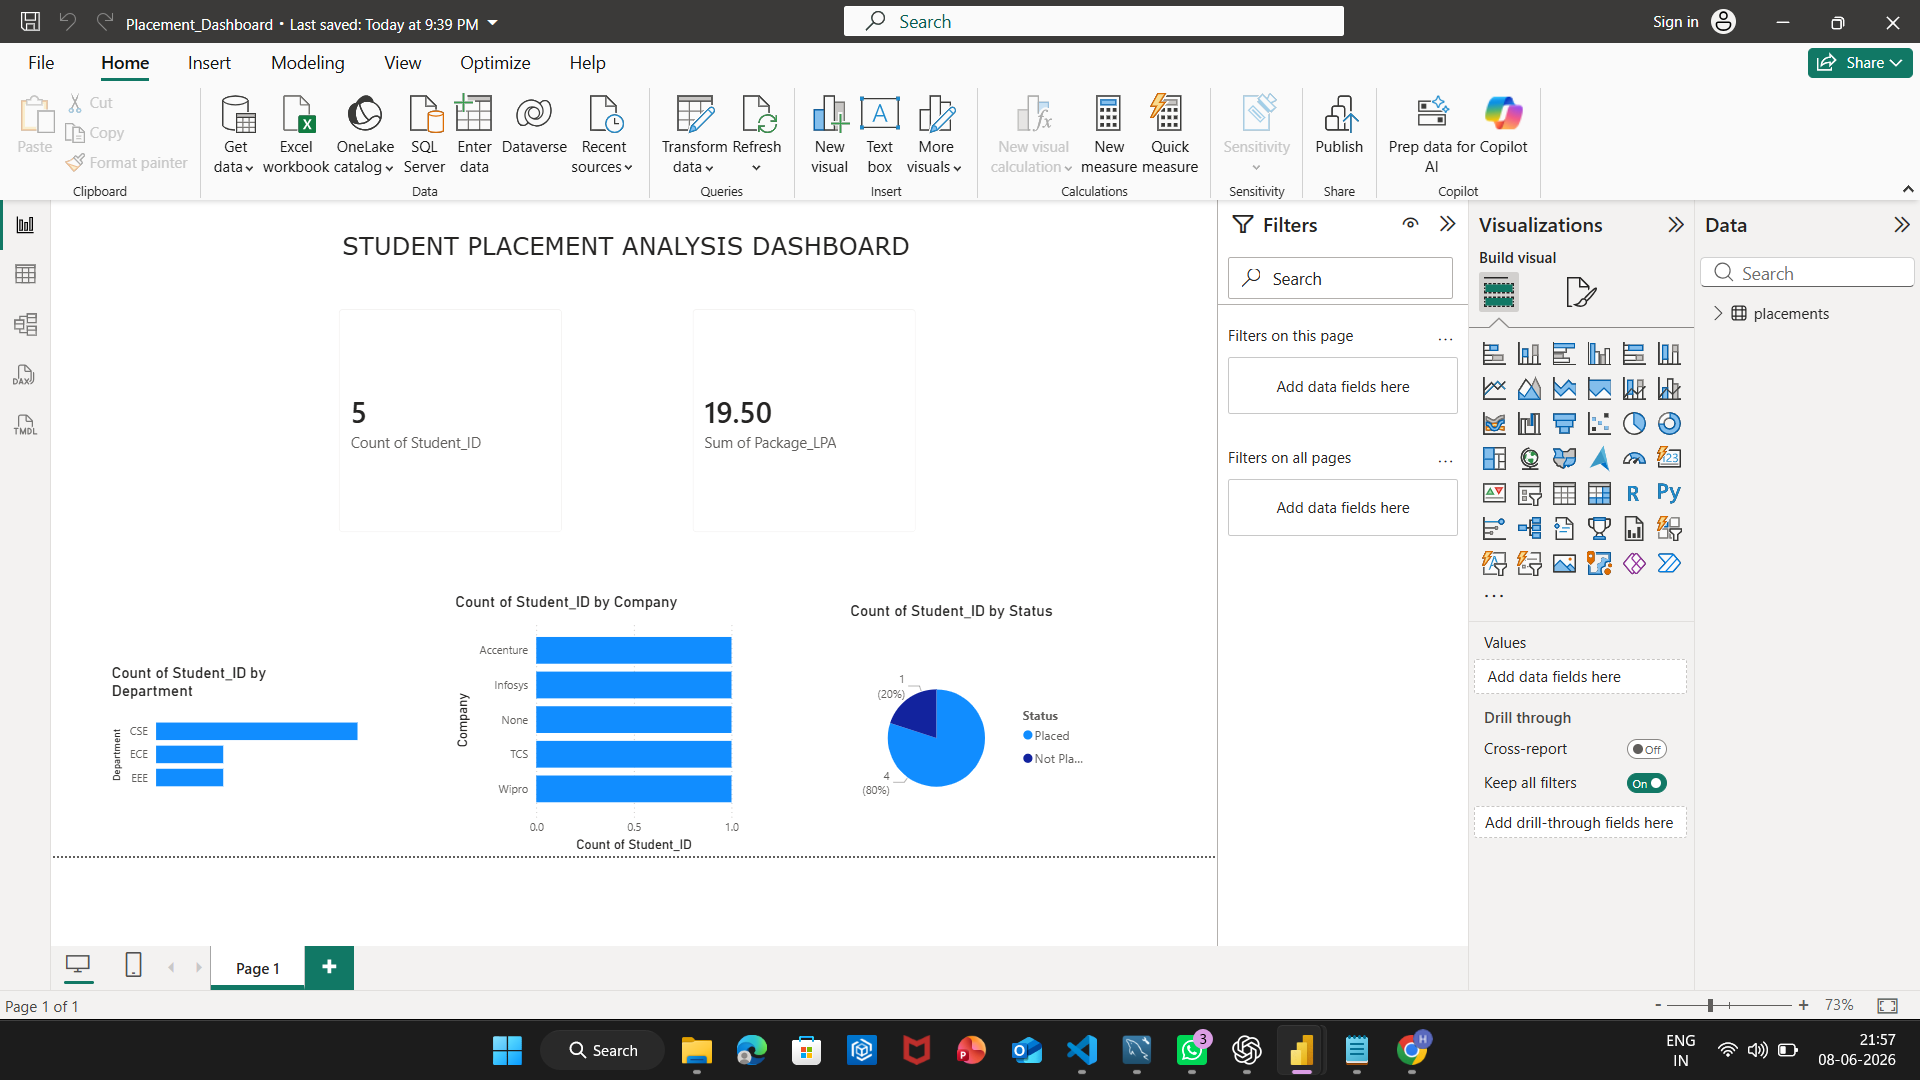

What the dashboard file says about the page in this screenshot:
{"tool":"powerbi","page":{"name":"Page 1","canvas":[1280,720],"ordinal":0},"visuals":[{"type":"cardVisual","fields":{"Data":["CountNonNull(placements.Student_ID)"]},"box":[299.1,102.9,279.9,279.9],"z":0},{"type":"cardVisual","fields":{"Data":["Sum(placements.Package_LPA)"]},"box":[687.5,102.9,279.9,279.9],"z":1},{"type":"clusteredBarChart","fields":{"Category":["placements.Department"],"Y":["CountNonNull(placements.Student_ID)"]},"box":[61.7,509.1,279.9,150.9],"z":2},{"type":"clusteredBarChart","fields":{"Category":["placements.Company"],"Y":["CountNonNull(placements.Student_ID)"]},"box":[439.1,430.9,321.1,289.5],"z":3},{"type":"pieChart","fields":{"Category":["placements.Status"],"Y":["CountNonNull(placements.Student_ID)"]},"box":[872.7,440.5,279.9,279.9],"z":4},{"type":"textbox","box":[61.7,28.8,926.2,42.5],"z":5}]}

Visuals, with their boxes on the page's 1280x720 design canvas (x1, y1, x2, y2). These are canvas units, not pixel positions in the 1920x1080 screenshot, which may show the page scaled, cropped or inside an application window:
cardVisual - CountNonNull(placements.Student_ID): crop(299, 103, 579, 383)
cardVisual - Sum(placements.Package_LPA): crop(688, 103, 967, 383)
clusteredBarChart - placements.Department x CountNonNull(placements.Student_ID): crop(62, 509, 342, 660)
clusteredBarChart - placements.Company x CountNonNull(placements.Student_ID): crop(439, 431, 760, 720)
pieChart - placements.Status x CountNonNull(placements.Student_ID): crop(873, 440, 1153, 720)
textbox: crop(62, 29, 988, 71)
